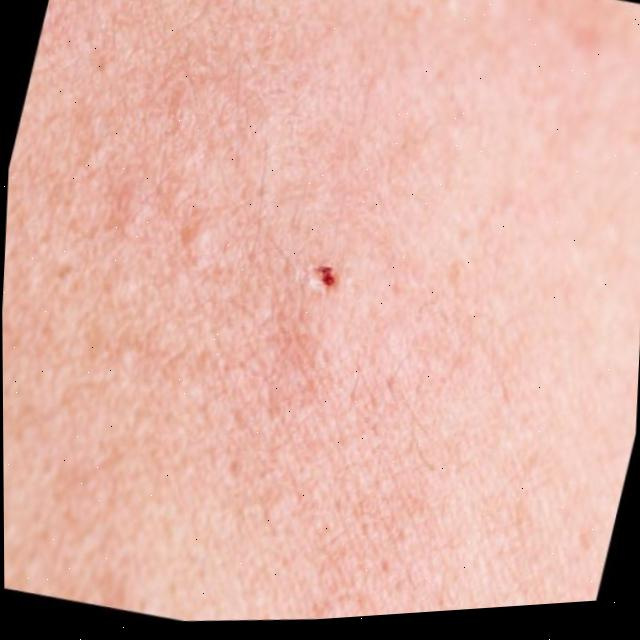Eczema: (107, 91, 419, 590)
